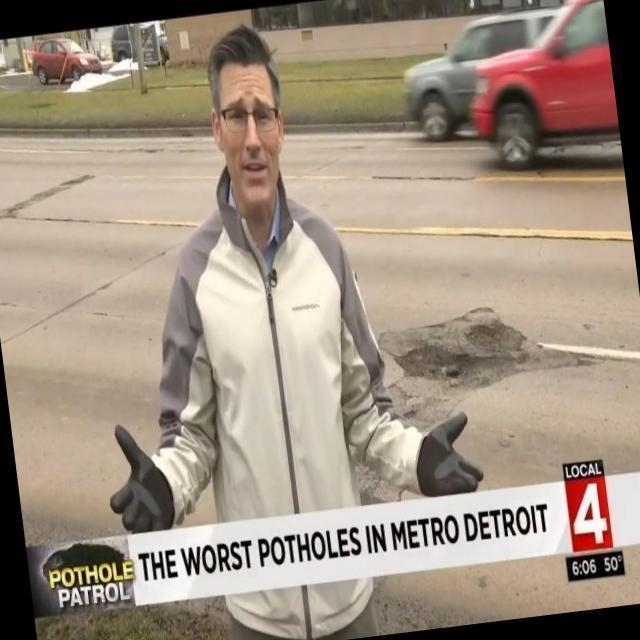pothole: (366, 306, 598, 394)
